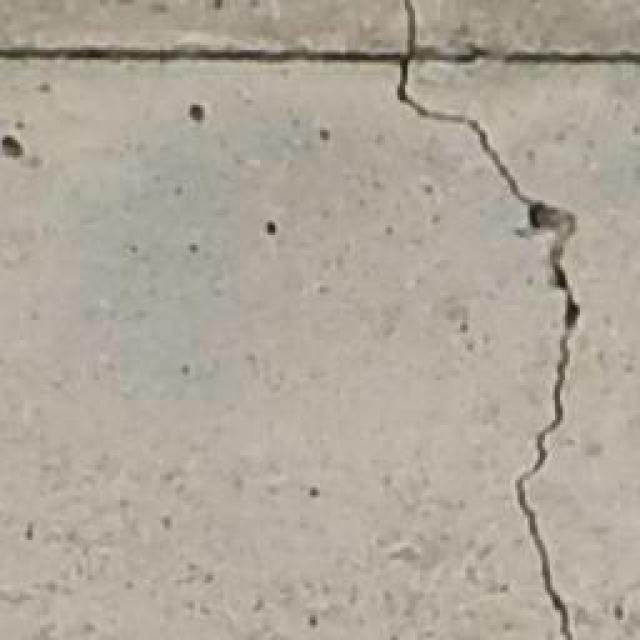concrete-crack: (392, 0, 580, 640)
